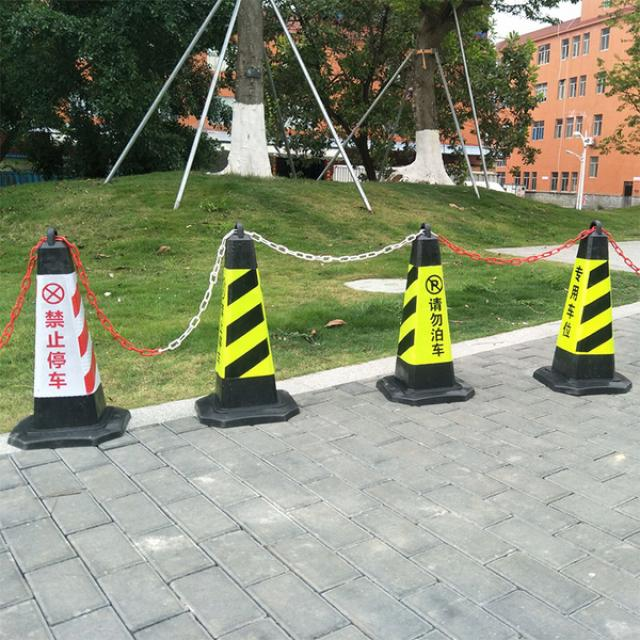reflective_cone: (10, 227, 131, 446), (192, 224, 300, 423), (378, 222, 474, 404), (532, 224, 634, 395)
